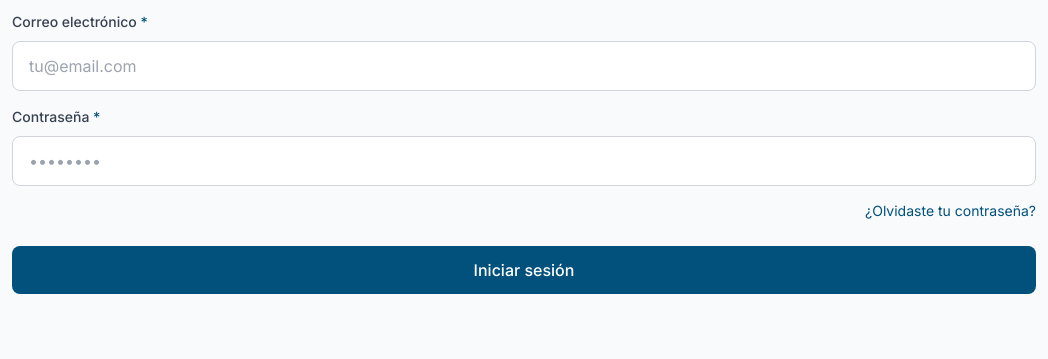
Test: LoginForm › validates required fields
Click the button "Iniciar sesión". click: (524, 270)
box: [12,246,1036,294]
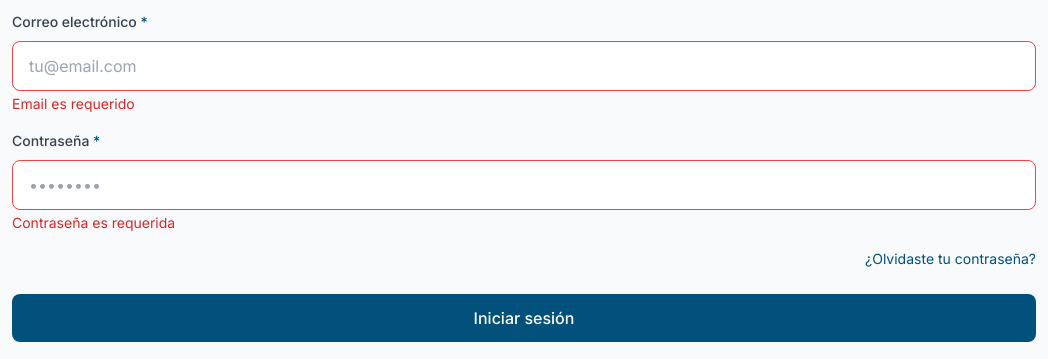
Result: the text "Email es requerido" is shown at [12,96,135,113]
